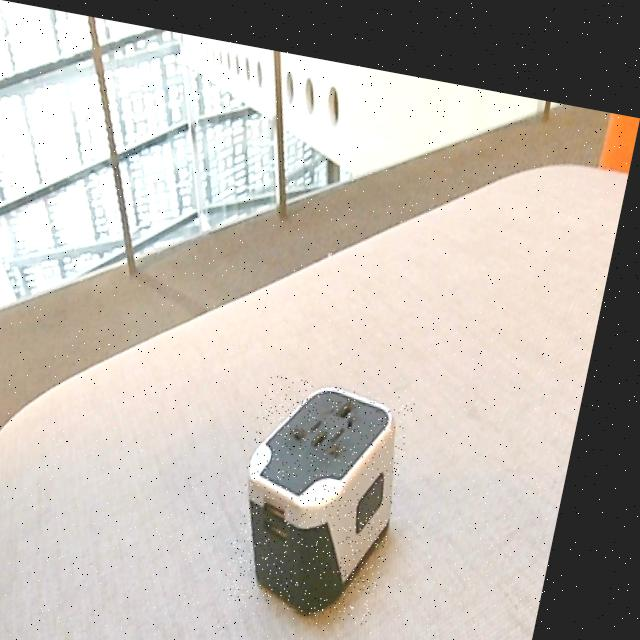adapter: (243, 360, 429, 608)
